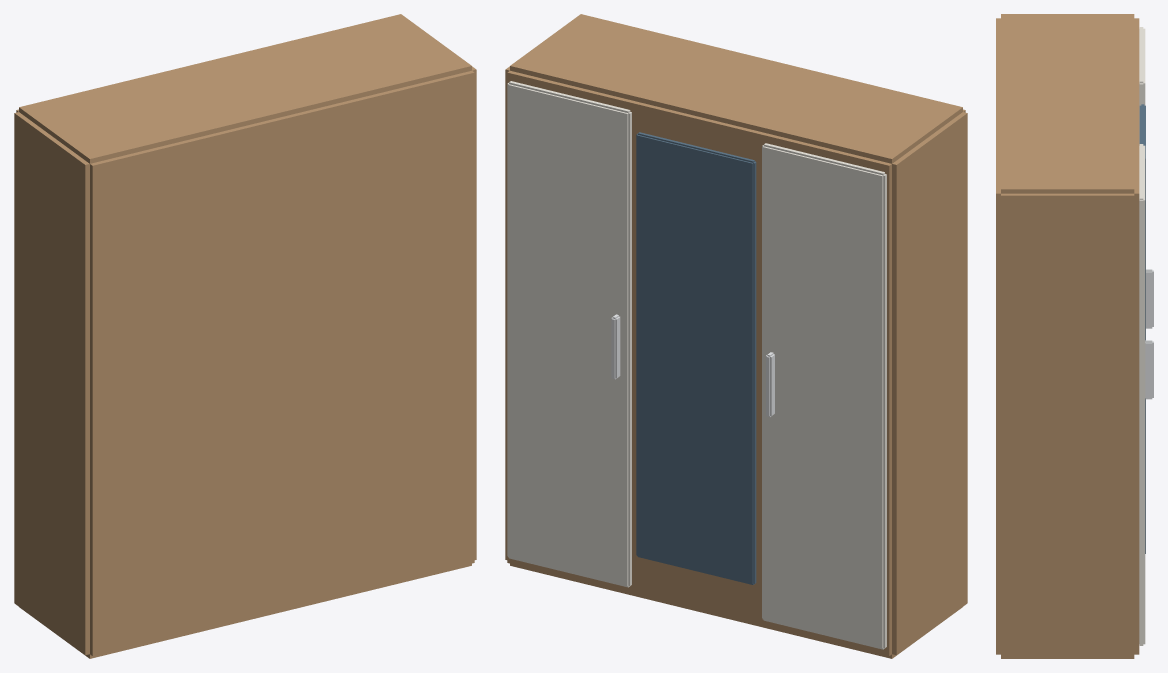
File: Interior_Wardrobe.fbx
3 renders of one model, left to right at view 1: azimuth 30°, elevation 25°; view 2: azimuth 150°, elevation 25°; view 3: azimuth 270°, elevation 25°, orthographic. The views are drawn at different scales.
Parts seen in each view (by area): view 1: Interior_Wardrobe; view 2: Interior_Wardrobe; view 3: Interior_Wardrobe.
Boxes of the visible parts, x1,y1,x2,y2 form: Interior_Wardrobe: [14, 14, 476, 658]; Interior_Wardrobe: [505, 14, 967, 658]; Interior_Wardrobe: [996, 14, 1153, 658].
Bounding box in the file's own units: 1.72 × 2.1 × 0.64.
